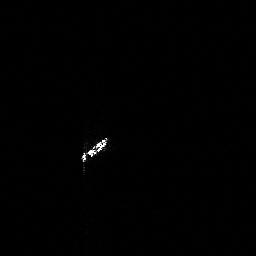ship: (77, 132, 112, 165)
